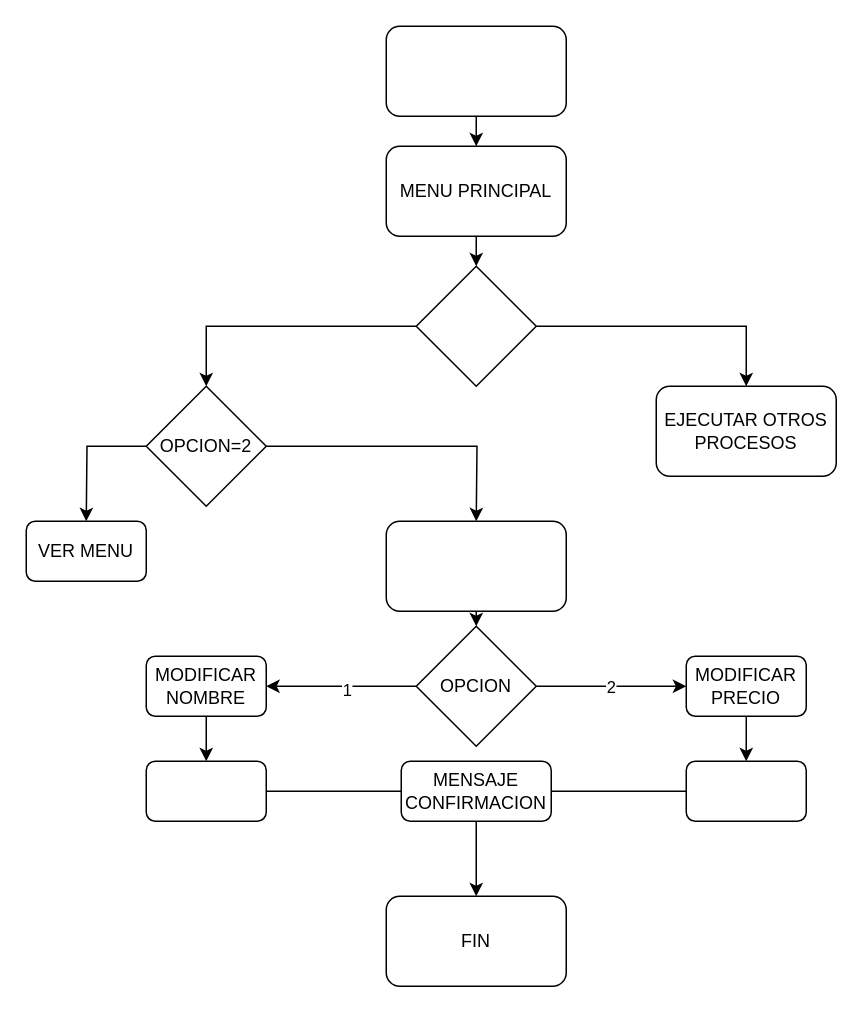
The diagram is 863 pixels wide and 1013 high, and some of its shapes have lost their labels. Each missing label, with the centre of its shape:
"ID DEL PRODUCTO A MODIFICAR" goes at pixel 475 565.
"INICIO" goes at pixel 475 70.
"NUEVO NOMBRE" goes at pixel 205 790.
"NUEVO PRECIO" goes at pixel 745 790.
"OPCION=4" goes at pixel 475 325.
